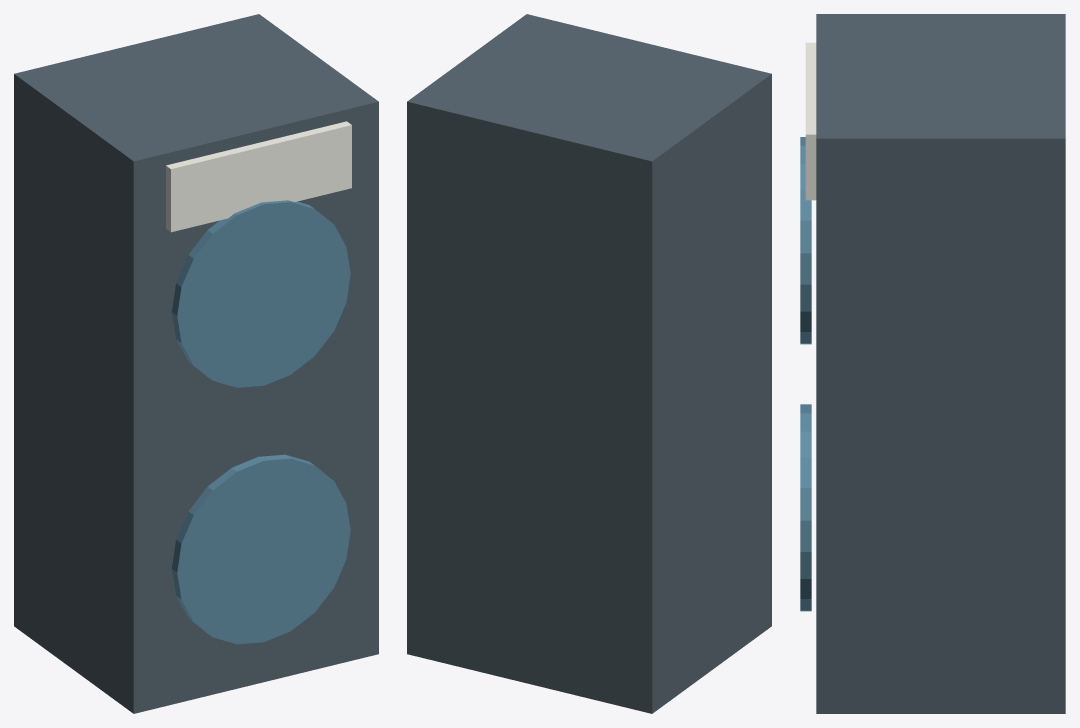
File: speaker.glb
The picture shows the model from 3 angles, left to right: view 1: azimuth 30°, elevation 25°; view 2: azimuth 150°, elevation 25°; view 3: azimuth 270°, elevation 25°; orthographic projection. The views are drawn at different scales.
Parts seen in each view (by area): view 1: speaker-stack; view 2: speaker-stack; view 3: speaker-stack.
Boxes of the visible parts, x1=… form: speaker-stack: x1=14, y1=14, x2=378, y2=713; speaker-stack: x1=407, y1=14, x2=771, y2=713; speaker-stack: x1=800, y1=14, x2=1065, y2=713.
Bounding box in the file's own units: 0.65 × 1.4 × 0.585.
